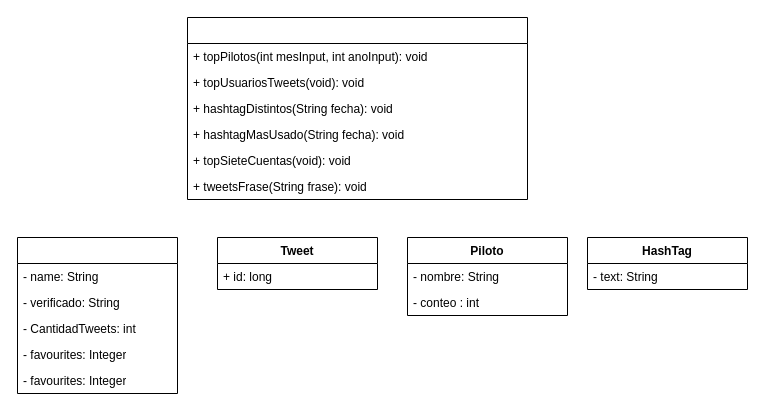
This 765x414 diagram has some shape labels left out. The shapes that lost their labels are listed below. From the top down, each one's box as (x1, y1, x2, y2) in pixels, then its label:
(186, 16, 528, 200): CSVReader
(16, 236, 178, 394): User
